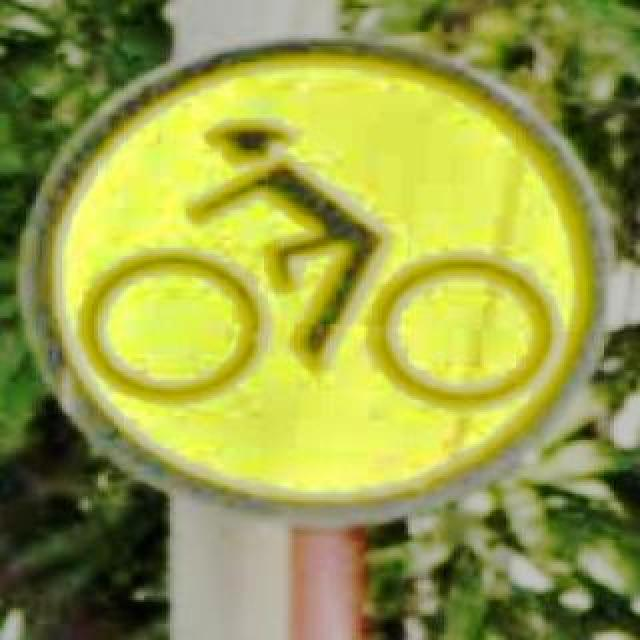bike lane: (20, 36, 612, 528)
